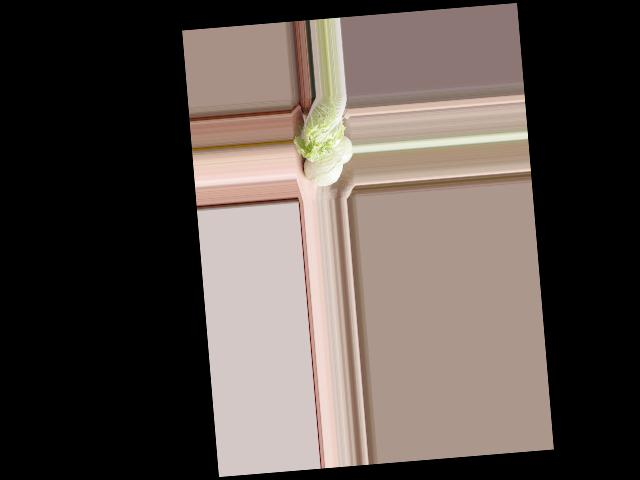lettuce: (289, 95, 349, 163)
